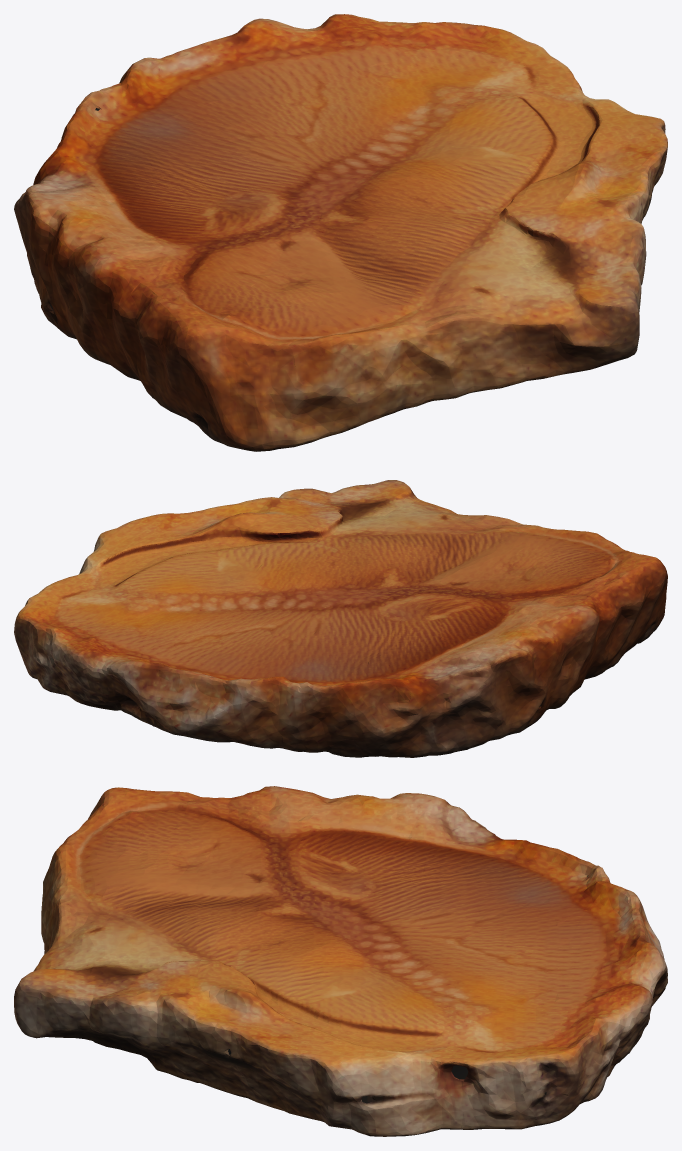
3 renders of one model, top to bottom at view 1: azimuth 30°, elevation 25°; view 2: azimuth 150°, elevation 25°; view 3: azimuth 270°, elevation 25°, orthographic. The views are drawn at different scales.
Visible parts, largest first — view 1: world; view 2: world; view 3: world.
Part boxes in pixels (x1,y1,x2,y2): world: (14, 14, 667, 451); world: (14, 480, 667, 757); world: (14, 786, 667, 1136).
Size of the model in its own units: 0.9649 by 0.1748 by 0.9982.
1 material, 1 textured.
